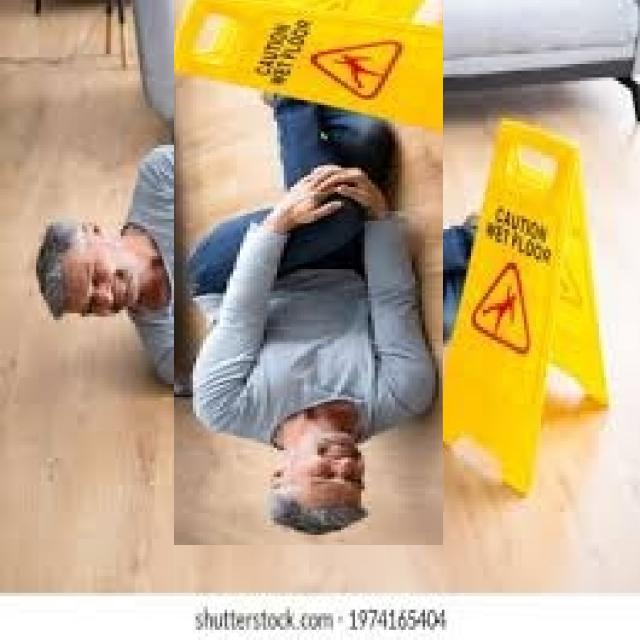Fall: (179, 106, 420, 542)
